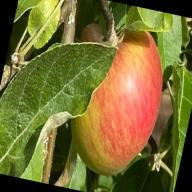Apples: (61, 19, 174, 183)
